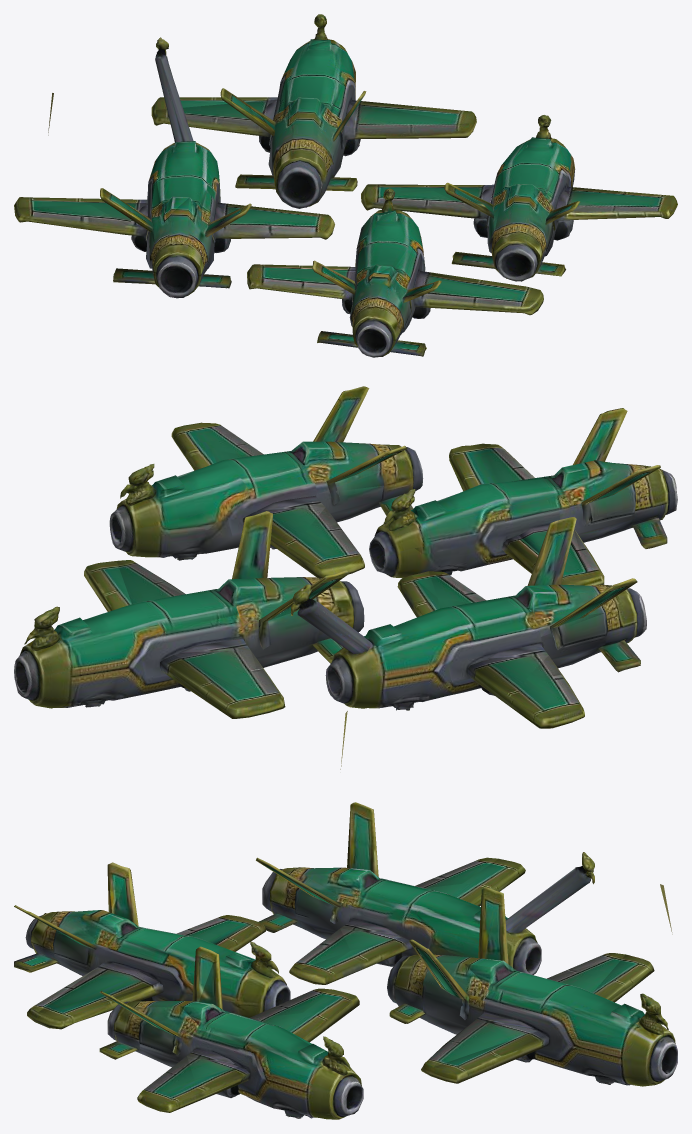
The model's file is jade_skiff.glb.
3 renders of one model, top to bottom at view 1: azimuth 30°, elevation 25°; view 2: azimuth 150°, elevation 25°; view 3: azimuth 270°, elevation 25°, orthographic. The views are drawn at different scales.
Parts seen in each view (by area): view 1: Body, Trim; view 2: Body, Trim; view 3: Body, Trim.
Boxes of the visible parts, x1,y1,x2,y2 form: Body: (14, 14, 677, 357); Trim: (19, 40, 671, 343); Body: (14, 386, 677, 769); Trim: (58, 393, 664, 715); Body: (14, 802, 677, 1119); Trim: (22, 802, 633, 1100).
Bounding box in the file's own units: 3.78 × 0.9272 × 4.12.
2 materials, 2 textured.
